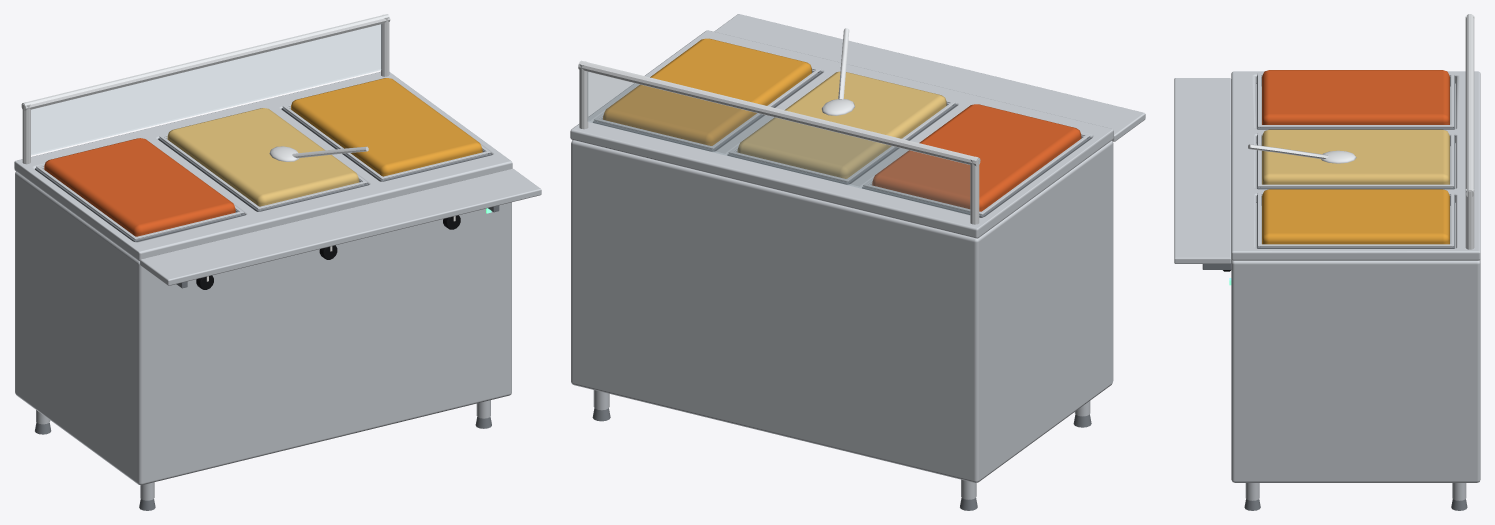
File: rice-warmer.glb
The picture shows the model from 3 angles, left to right: view 1: azimuth 30°, elevation 25°; view 2: azimuth 150°, elevation 25°; view 3: azimuth 270°, elevation 25°; orthographic projection. The views are drawn at different scales.
Parts seen in each view (by area): view 1: BODY, FOOD, GLASS; view 2: BODY, FOOD, GLASS; view 3: BODY, FOOD.
Part boxes in pixels (x1,y1,x2,y2): BODY: (14,14,541,510); FOOD: (44,78,482,236); GLASS: (31,24,381,155); BODY: (570,14,1145,510); FOOD: (603,38,1081,211); GLASS: (587,72,969,214); BODY: (1174,14,1480,510); FOOD: (1262,70,1449,244).
Bounding box in the file's own units: 1.2 × 1 × 0.86.
